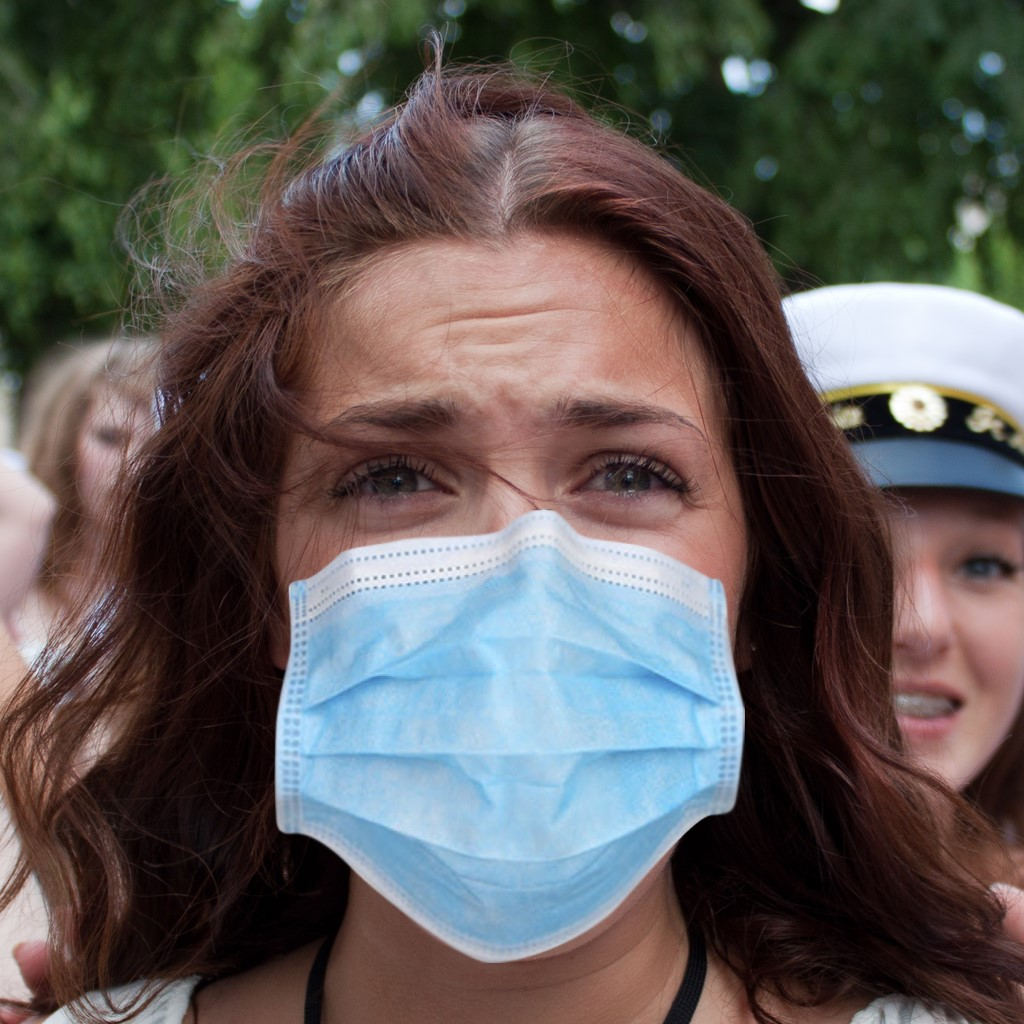con_mascara: (240, 232, 758, 921)
